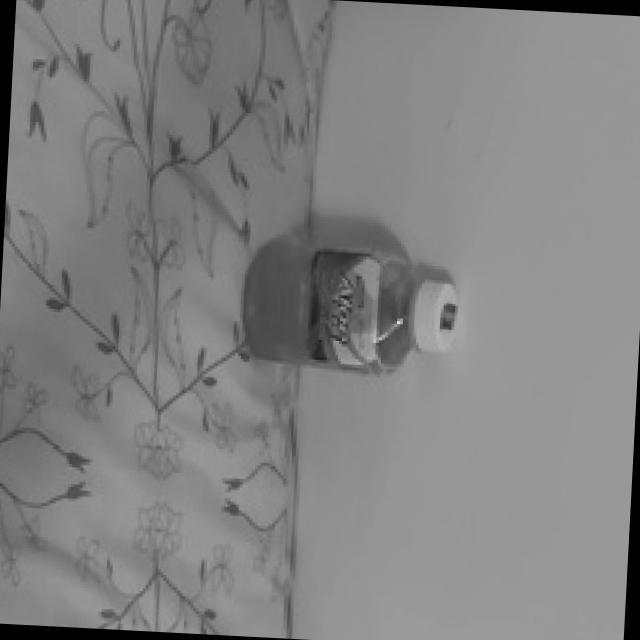good: (232, 233, 476, 385)
